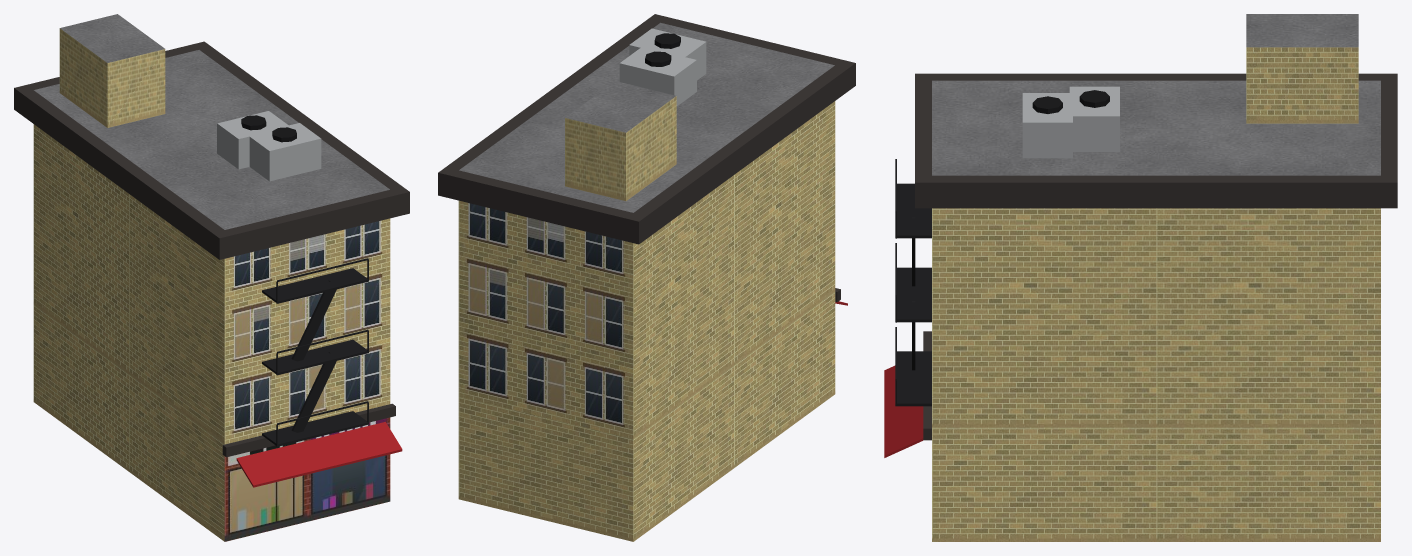
The model's file is 060_restaurant_row.glb.
3 views of the same model, side by side, from view 1: azimuth 30°, elevation 25°; view 2: azimuth 150°, elevation 25°; view 3: azimuth 270°, elevation 25° (orthographic). The views are drawn at different scales.
Parts seen in each view (by area): view 1: 060_restaurant_row; view 2: 060_restaurant_row; view 3: 060_restaurant_row.
Part boxes in pixels (x1=…): 060_restaurant_row: x1=14, y1=14, x2=409, y2=541; 060_restaurant_row: x1=438, y1=14, x2=855, y2=541; 060_restaurant_row: x1=884, y1=14, x2=1397, y2=541.
Size of the model in its own units: 9.2 by 17.4 by 18.3.
9 materials, 4 textured.
